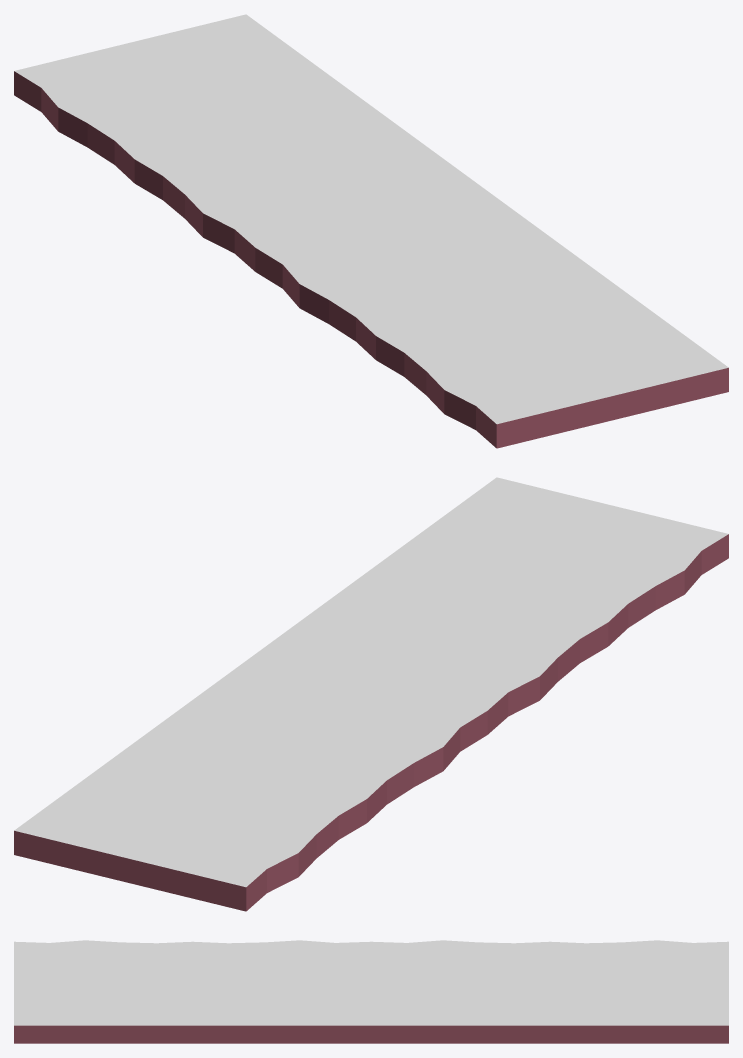
3 views of the same model, one above another, from view 1: azimuth 30°, elevation 25°; view 2: azimuth 150°, elevation 25°; view 3: azimuth 270°, elevation 25° (orthographic). The views are drawn at different scales.
Visible parts, largest first — view 1: Plane; view 2: Plane; view 3: Plane.
Part boxes in pixels (bbox=[...]): Plane: bbox=[14, 14, 728, 448]; Plane: bbox=[14, 477, 728, 911]; Plane: bbox=[14, 940, 728, 1043].
Bounding box in the file's own units: 1018 × 100 × 3600.
